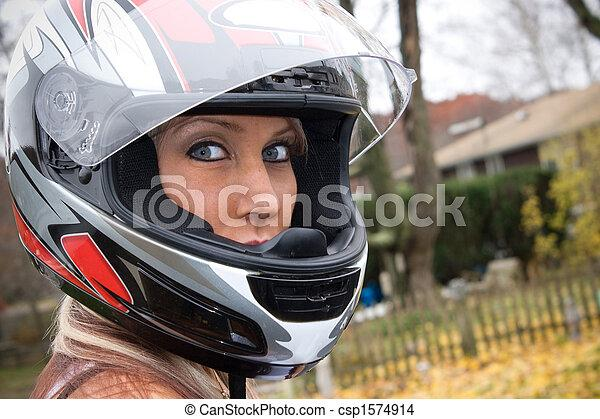helmet: (0, 2, 358, 355)
